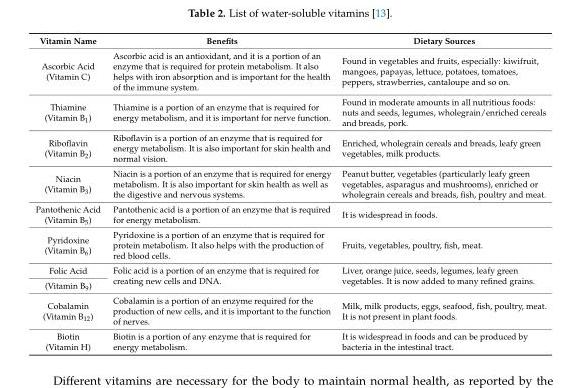table: (34, 34, 545, 351)
table column: (105, 34, 335, 351), (335, 34, 545, 351), (34, 34, 105, 351)
table column header: (34, 34, 545, 47)
table row: (34, 47, 545, 93), (34, 93, 545, 129), (34, 129, 545, 165), (34, 165, 545, 201), (34, 227, 545, 262), (34, 293, 545, 328), (34, 201, 545, 227), (34, 328, 545, 351), (34, 277, 545, 293), (34, 262, 545, 277), (34, 34, 545, 47)
table spanning cell: (105, 262, 335, 293), (335, 262, 545, 293)
